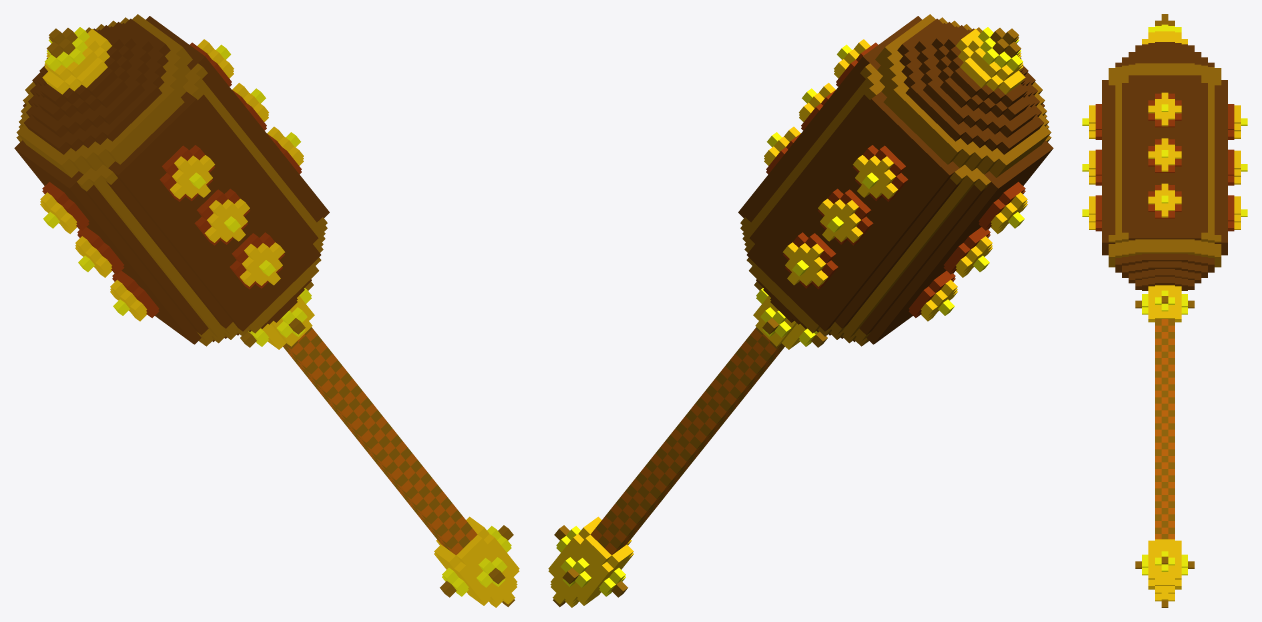
File: cub-lv3.glb
3 views of the same model, side by side, from view 1: azimuth 30°, elevation 25°; view 2: azimuth 150°, elevation 25°; view 3: azimuth 270°, elevation 25° (orthographic). The views are drawn at different scales.
Parts seen in each view (by area): view 1: cub earth; view 2: cub earth; view 3: cub earth.
Boxes of the visible parts, x1,y1,x2,y2 form: cub earth: (14,14,519,607); cub earth: (548,14,1053,607); cub earth: (1082,14,1247,607).
Size of the model in its own units: 0.7162 by 0.9843 by 0.3276.
Materials: 1 (1 with a texture image).
